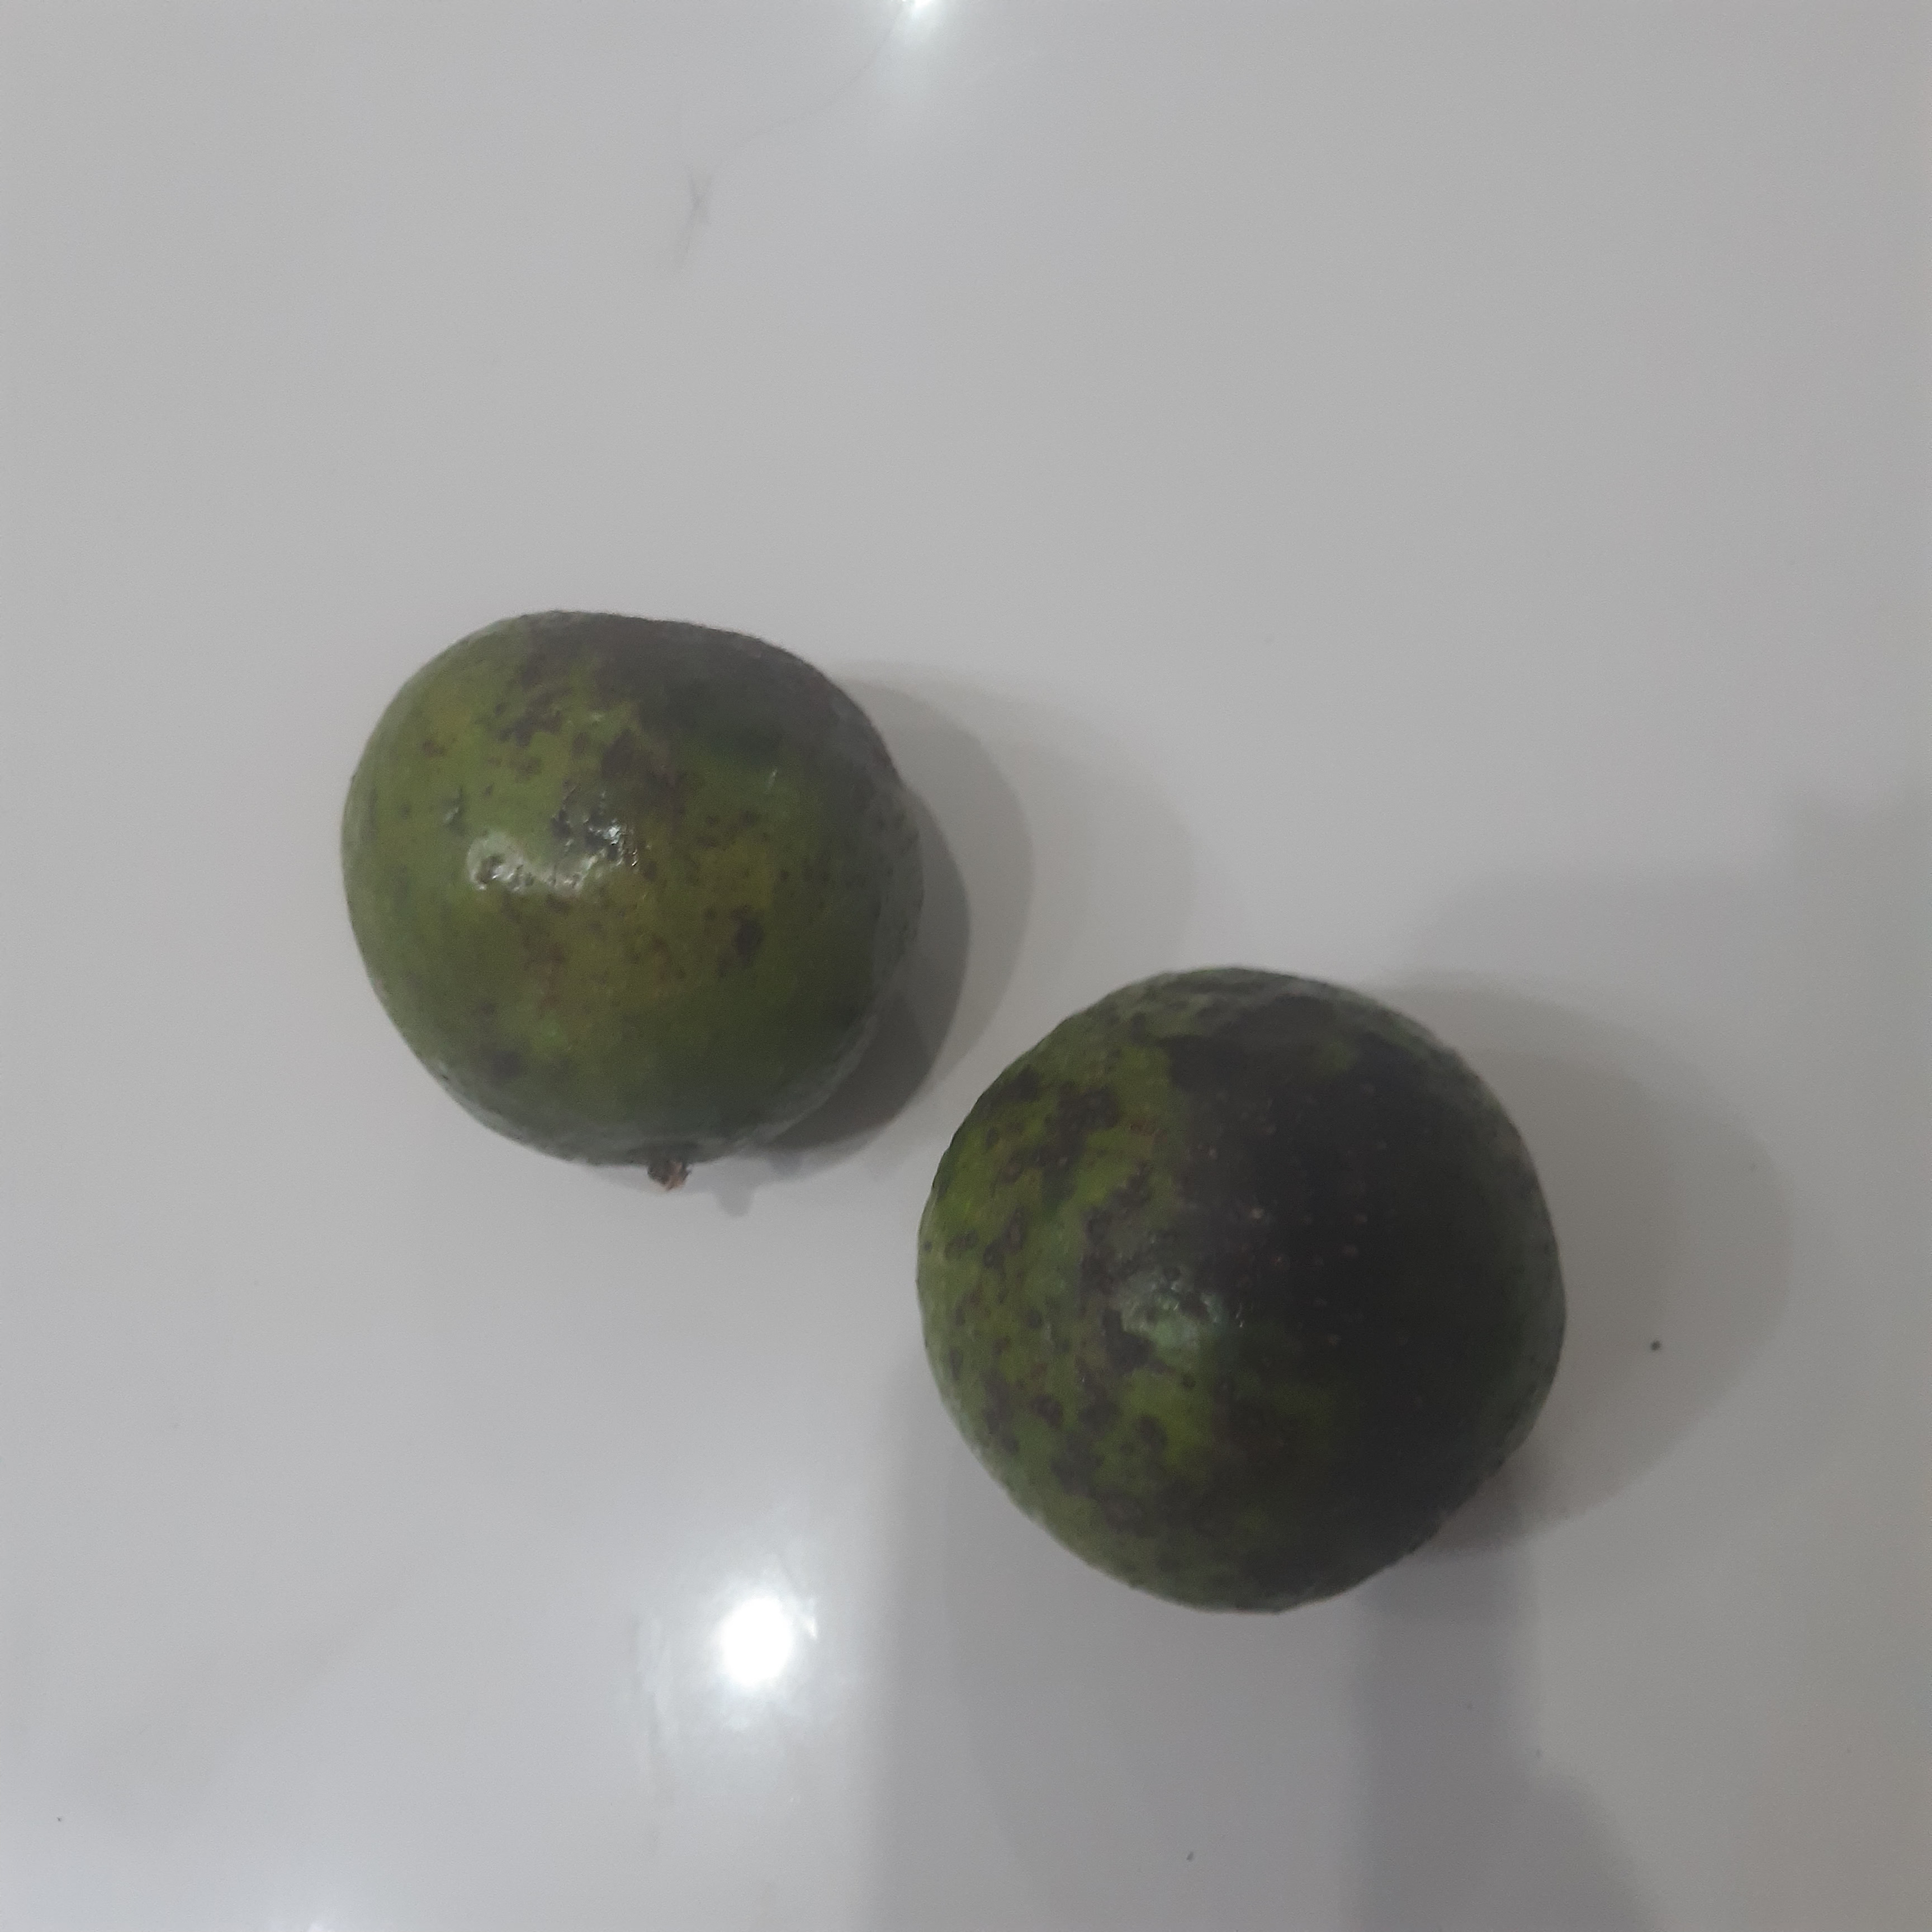Bo: (916, 964, 1564, 1617), (340, 609, 927, 1173)
